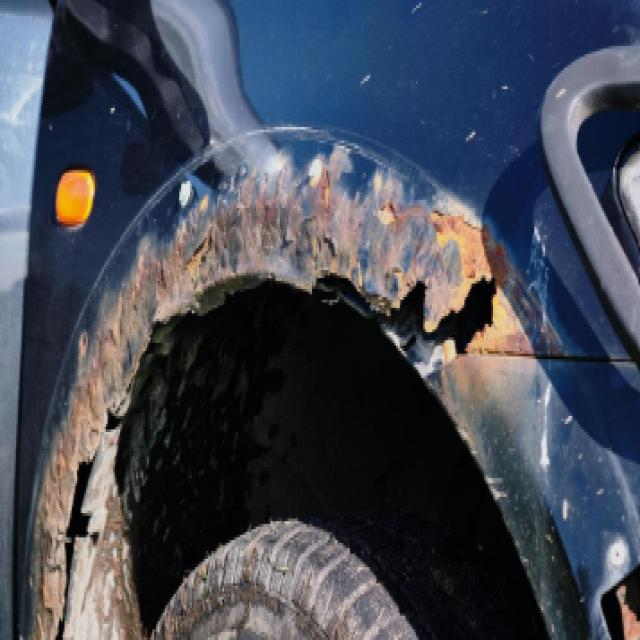Rust: (31, 152, 543, 637), (615, 581, 639, 639)
